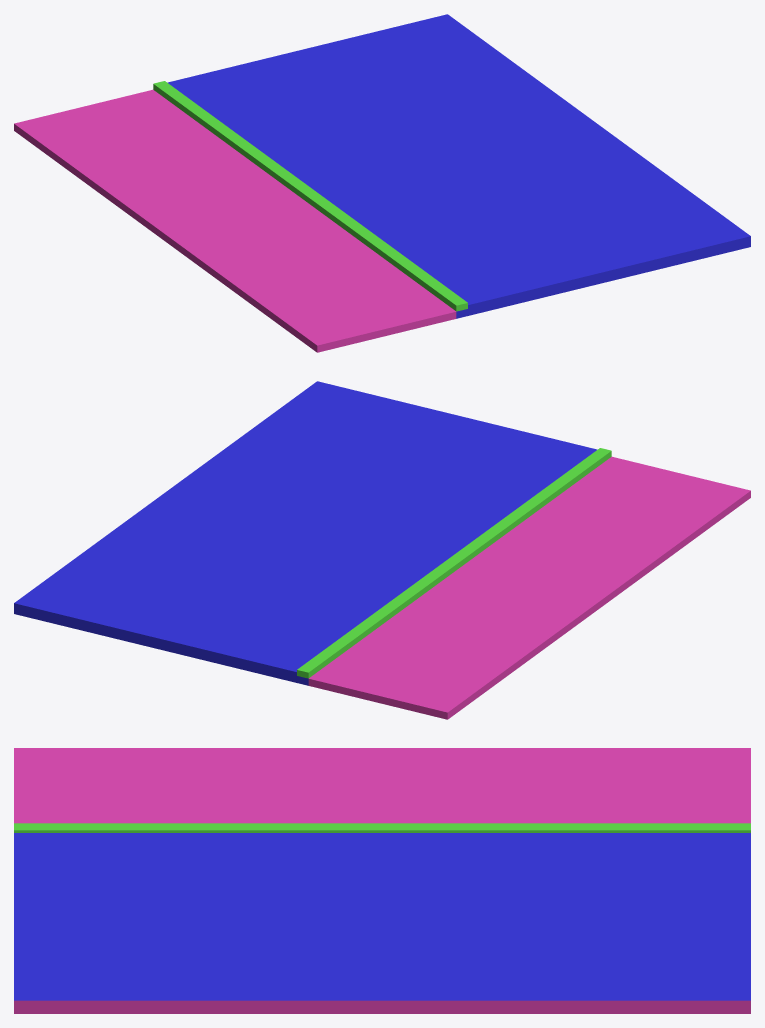
Rendered from ground 1.fbx.
3 renders of one model, top to bottom at view 1: azimuth 30°, elevation 25°; view 2: azimuth 150°, elevation 25°; view 3: azimuth 270°, elevation 25°, orthographic. The views are drawn at different scales.
Visible parts, largest first — view 1: Plane; view 2: Plane; view 3: Plane.
Boxes of the visible parts, <box> form: Plane: <box>14,14,750,352</box>; Plane: <box>14,381,750,719</box>; Plane: <box>14,748,750,1013</box>.
Size of the model in its own units: 1180 by 34.19 by 1430.
